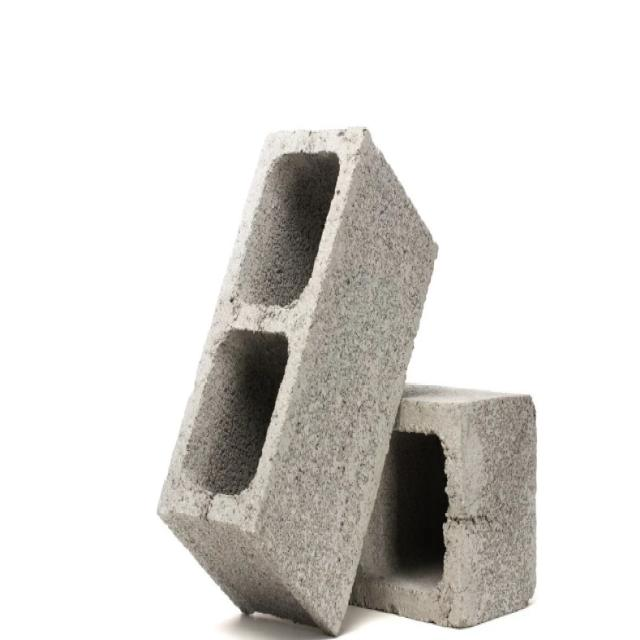Concrete: (156, 125, 439, 637), (351, 387, 539, 632)
